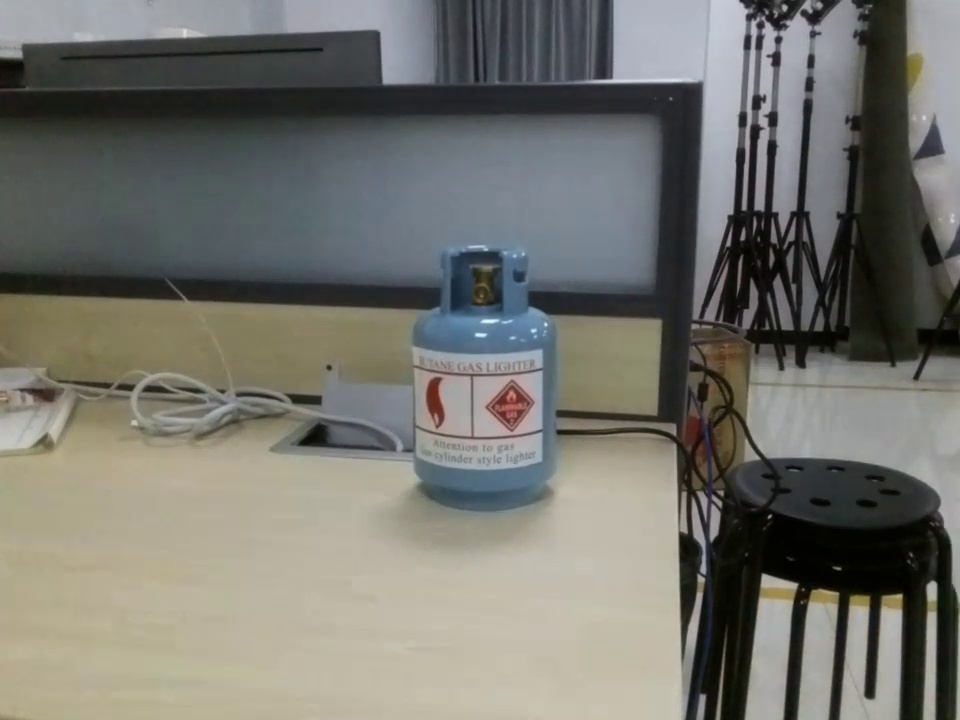gas tank: (406, 242, 567, 515)
